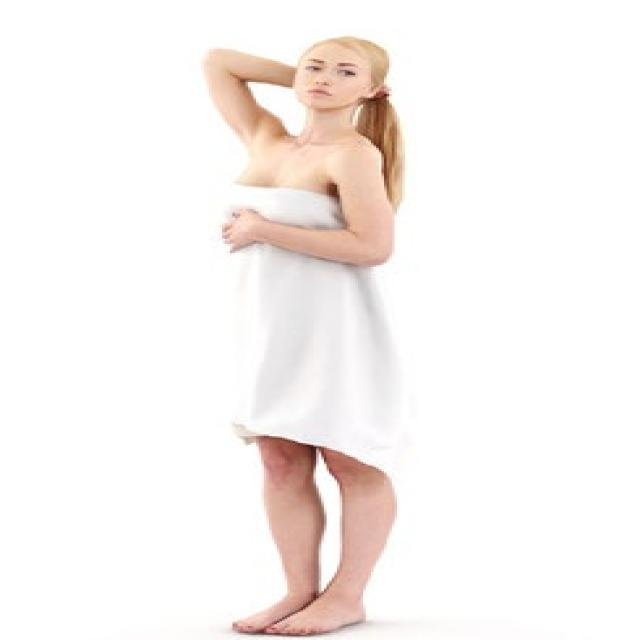standing: (193, 34, 412, 640)
